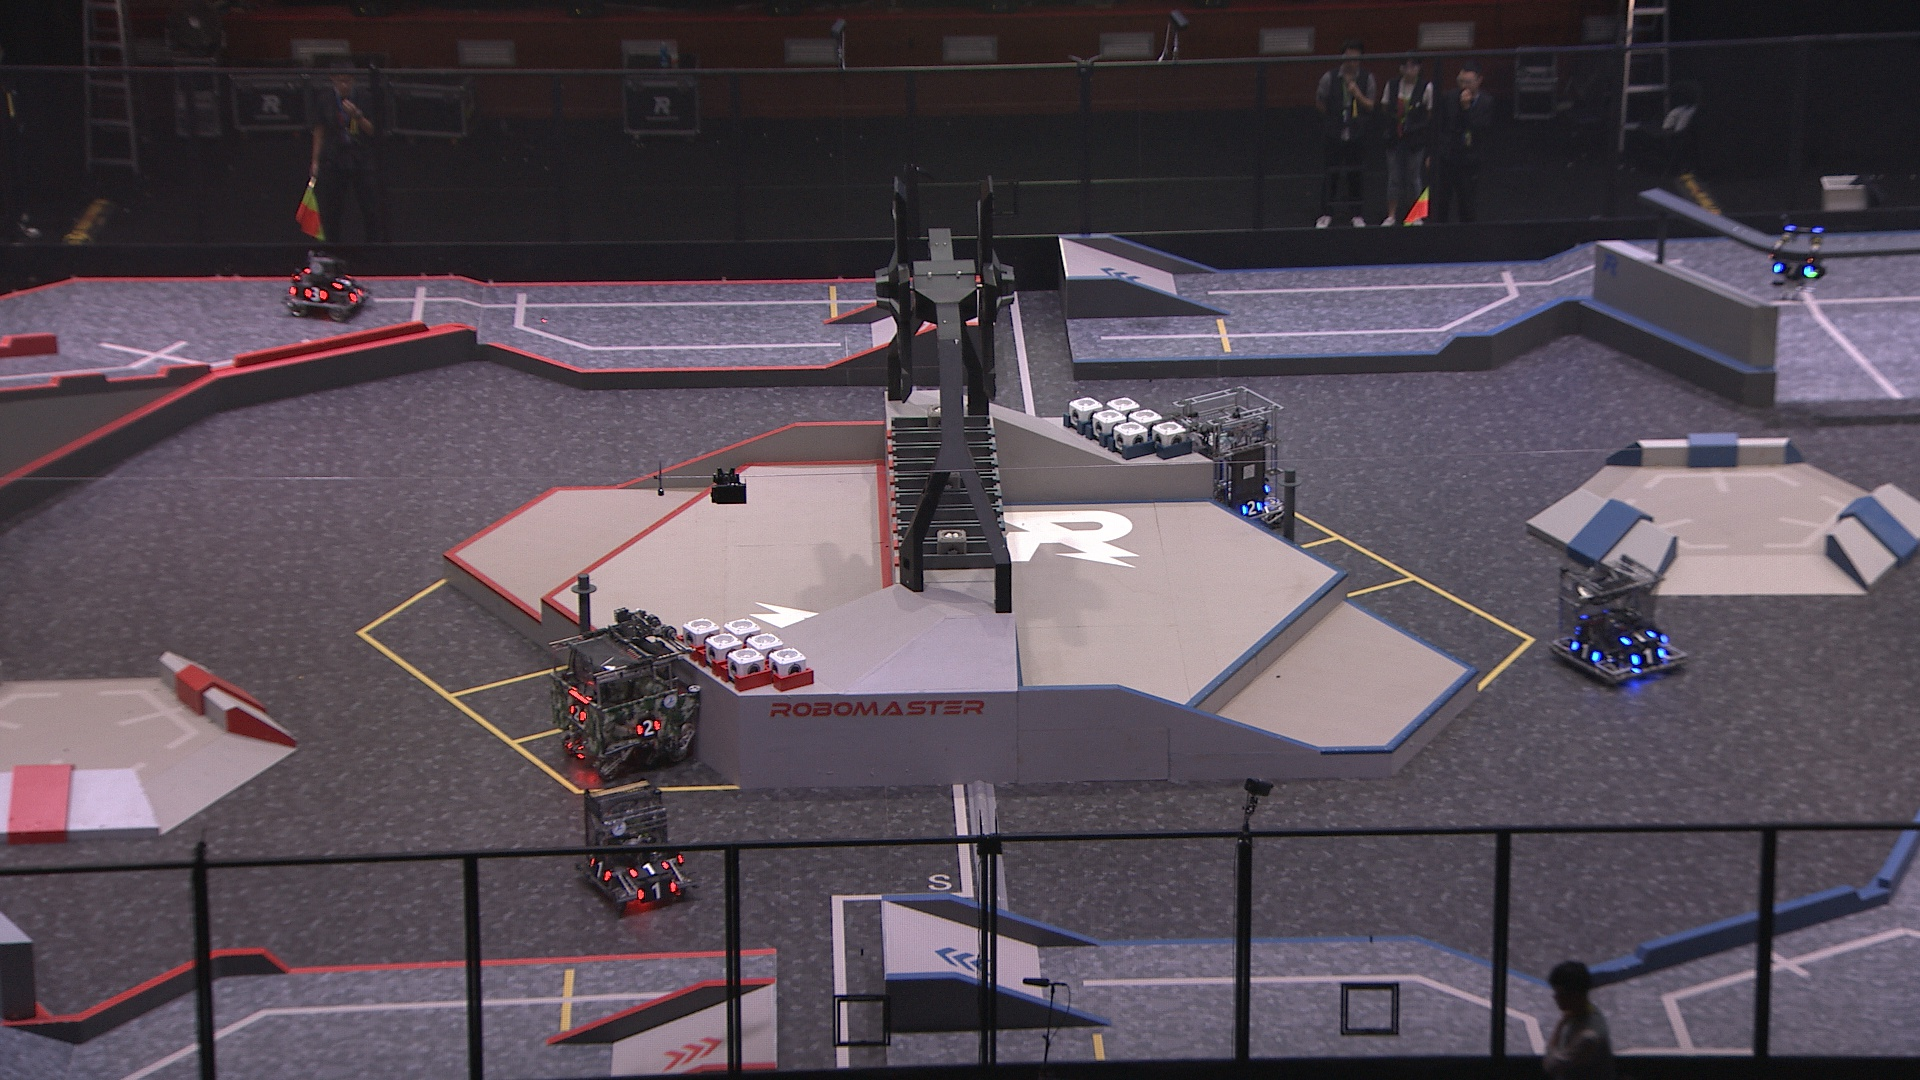armor: (632, 876, 679, 906), (626, 856, 670, 882), (1770, 258, 1816, 282), (1629, 644, 1667, 671), (1621, 624, 1660, 646), (1569, 641, 1604, 666), (585, 855, 613, 885), (632, 713, 662, 738), (566, 700, 591, 725), (1240, 495, 1266, 517), (301, 285, 328, 305), (344, 284, 368, 306), (332, 272, 357, 291)
car: (542, 618, 702, 782), (1548, 551, 1692, 688), (1171, 384, 1292, 529), (578, 781, 698, 916), (284, 248, 372, 320)
watcher: (1770, 210, 1833, 305)
